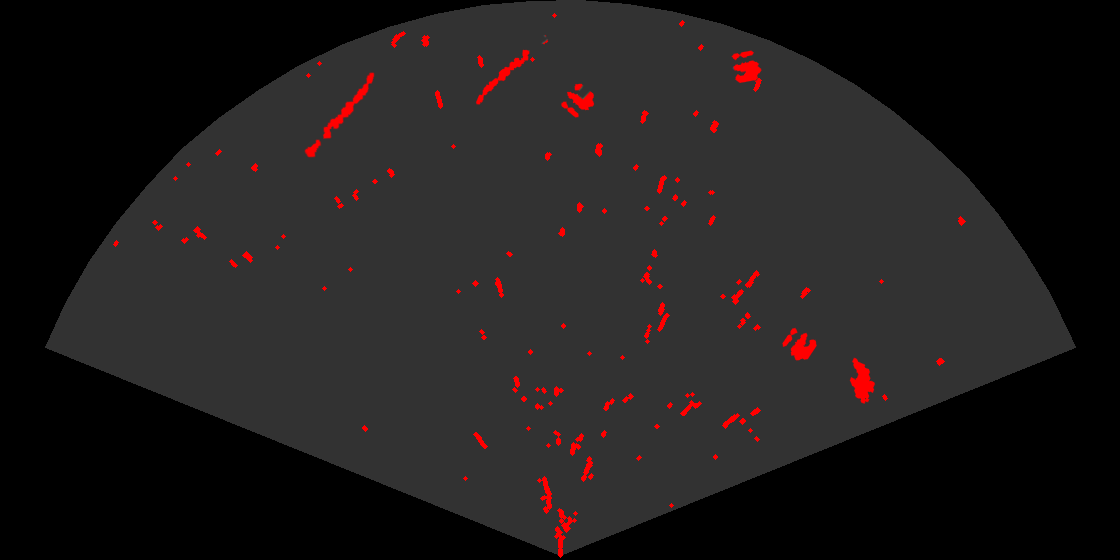AUV: (848, 356, 877, 405)
ball: (560, 82, 596, 119), (781, 326, 818, 362), (730, 49, 763, 85)
chain: (303, 71, 376, 159), (474, 33, 550, 106)
